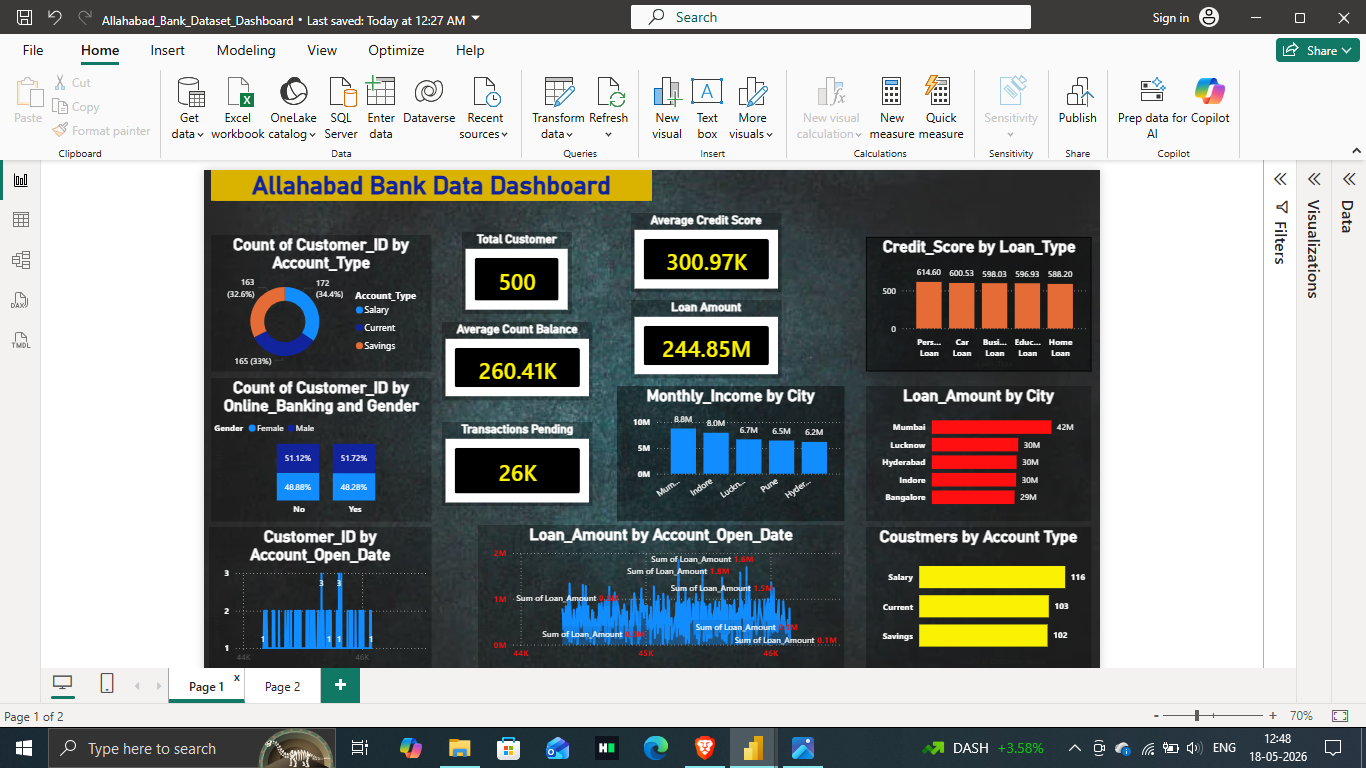

The page's visual inventory and layout, read from the dashboard file:
{"tool":"powerbi","page":{"name":"Page 1","canvas":[1280,720],"ordinal":0},"visuals":[{"type":"textbox","title":"Allahabad Bank Data Dashboard","box":[10.1,0,629.9,43.7],"z":0},{"type":"clusteredBarChart","title":" Loan_Amount by City","fields":{"Category":["BankData.City"],"Y":["Sum(BankData.Loan_Amount)"]},"box":[930,316.7,321.7,193.3],"z":1},{"type":"clusteredBarChart","title":"Coustmers by Account Type","fields":{"Category":["BankData.Account_Type"],"Y":["CountNonNull(BankData.Customer_Name)"]},"box":[930,516.7,321.7,203.3],"z":2},{"type":"clusteredColumnChart","title":"Monthly_Income by City","fields":{"Category":["BankData.City"],"Y":["Sum(BankData.Monthly_Income)"]},"box":[590,286.7,325,203.3],"z":3},{"type":"clusteredColumnChart","title":" Credit_Score by Loan_Type","fields":{"Category":["BankData.Loan_Type"],"Y":["Avg(BankData.Credit_Score)"]},"box":[930,113.3,321.7,191.7],"z":4},{"type":"hundredPercentStackedColumnChart","fields":{"Series":["BankData.Gender"],"Category":["BankData.Online_Banking"],"Y":["CountNonNull(BankData.Customer_ID)"]},"box":[0,405,325,150],"z":5},{"type":"donutChart","fields":{"Category":["BankData.Account_Type"],"Y":["CountNonNull(BankData.Customer_ID)"]},"box":[6.7,188.3,318.3,195],"z":6},{"type":"lineChart","title":"Customer_ID by Account_Open_Date","fields":{"Category":["BankData.Account_Open_Date"],"Y":["CountNonNull(BankData.Customer_ID)"]},"box":[0,571.7,325,148.3],"z":7},{"type":"areaChart","title":" Loan_Amount by Account_Open_Date","fields":{"Y":["Sum(BankData.Loan_Amount)"],"Category":["BankData.Account_Open_Date"]},"box":[378.3,510,523.3,210],"z":8},{"type":"cardVisual","title":"Total Customer","fields":{"Data":["Count(BankData.Customer_ID)"]},"box":[378.3,113.3,136.7,90],"z":9},{"type":"cardVisual","title":"Loan Amount","fields":{"Data":["Sum(BankData.Loan_Amount)"]},"box":[610,188.3,215,90],"z":10},{"type":"cardVisual","title":"Average Count Balance","fields":{"Data":["Avg(BankData.Account_Balance)"]},"box":[338.3,260,215,90],"z":11},{"type":"cardVisual","title":"Average Credit Score","fields":{"Data":["Sum(BankData.Average_Cerdit_Score)"]},"box":[610,83.3,215,90],"z":12},{"type":"cardVisual","title":"Transactions Pending","fields":{"Data":["Sum(BankData.Transactions_Per_Month)"]},"box":[338.3,390,215,90],"z":13}]}

Visuals, with their boxes on the page's 1280x720 design canvas (x1, y1, x2, y2). These are canvas units, not pixel positions in the 1366x768 screenshot, which may show the page scaled, cropped or inside an application window:
"Allahabad Bank Data Dashboard" textbox: (10,0,640,44)
" Loan_Amount by City" clusteredBarChart: (930,317,1252,510)
"Coustmers by Account Type" clusteredBarChart: (930,517,1252,720)
"Monthly_Income by City" clusteredColumnChart: (590,287,915,490)
" Credit_Score by Loan_Type" clusteredColumnChart: (930,113,1252,305)
hundredPercentStackedColumnChart - BankData.Gender x BankData.Online_Banking: (0,405,325,555)
donutChart - BankData.Account_Type x CountNonNull(BankData.Customer_ID): (7,188,325,383)
"Customer_ID by Account_Open_Date" lineChart: (0,572,325,720)
" Loan_Amount by Account_Open_Date" areaChart: (378,510,902,720)
"Total Customer" cardVisual: (378,113,515,203)
"Loan Amount" cardVisual: (610,188,825,278)
"Average Count Balance" cardVisual: (338,260,553,350)
"Average Credit Score" cardVisual: (610,83,825,173)
"Transactions Pending" cardVisual: (338,390,553,480)
